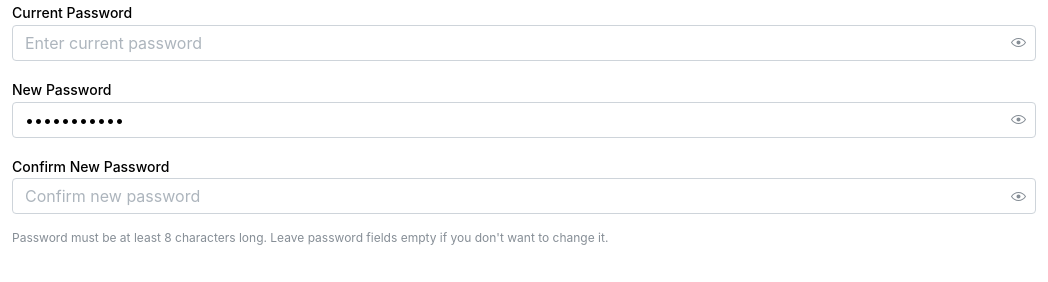
Test case: SecuritySettings › clears error when passwords match
First make them not match
Type "different123" into the password field labelled "Confirm New Password" at (524, 196), box [13,179,1035,213]
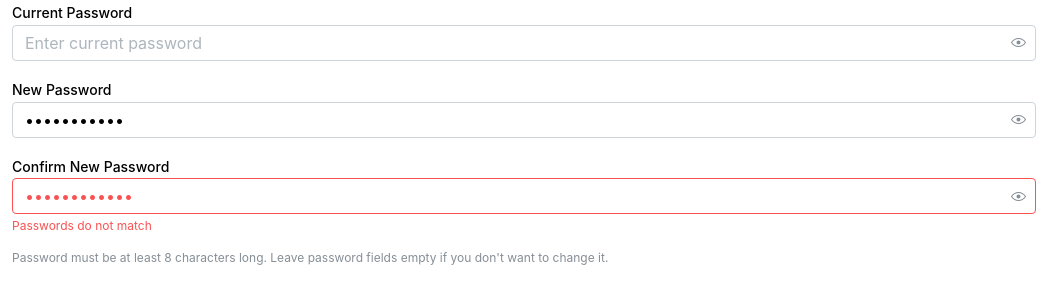
Check: the text "Passwords do not match" is shown, box [12,218,152,233]
Then make them match
Type "password123" into the password field labelled "Confirm New Password" at (524, 196), box [13,179,1035,213]
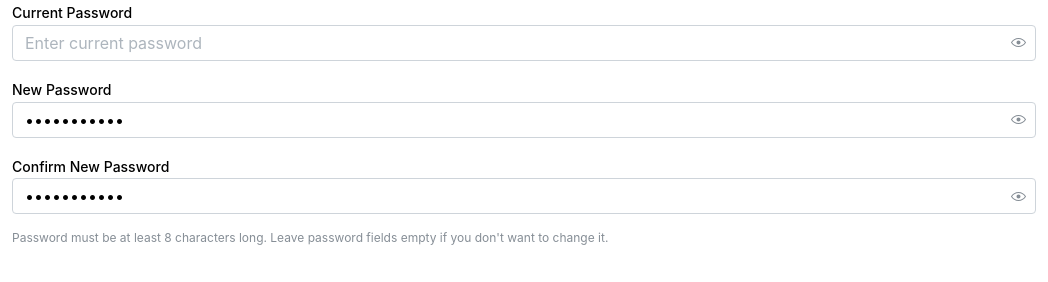
Check: the text "Passwords do not match" is gone
